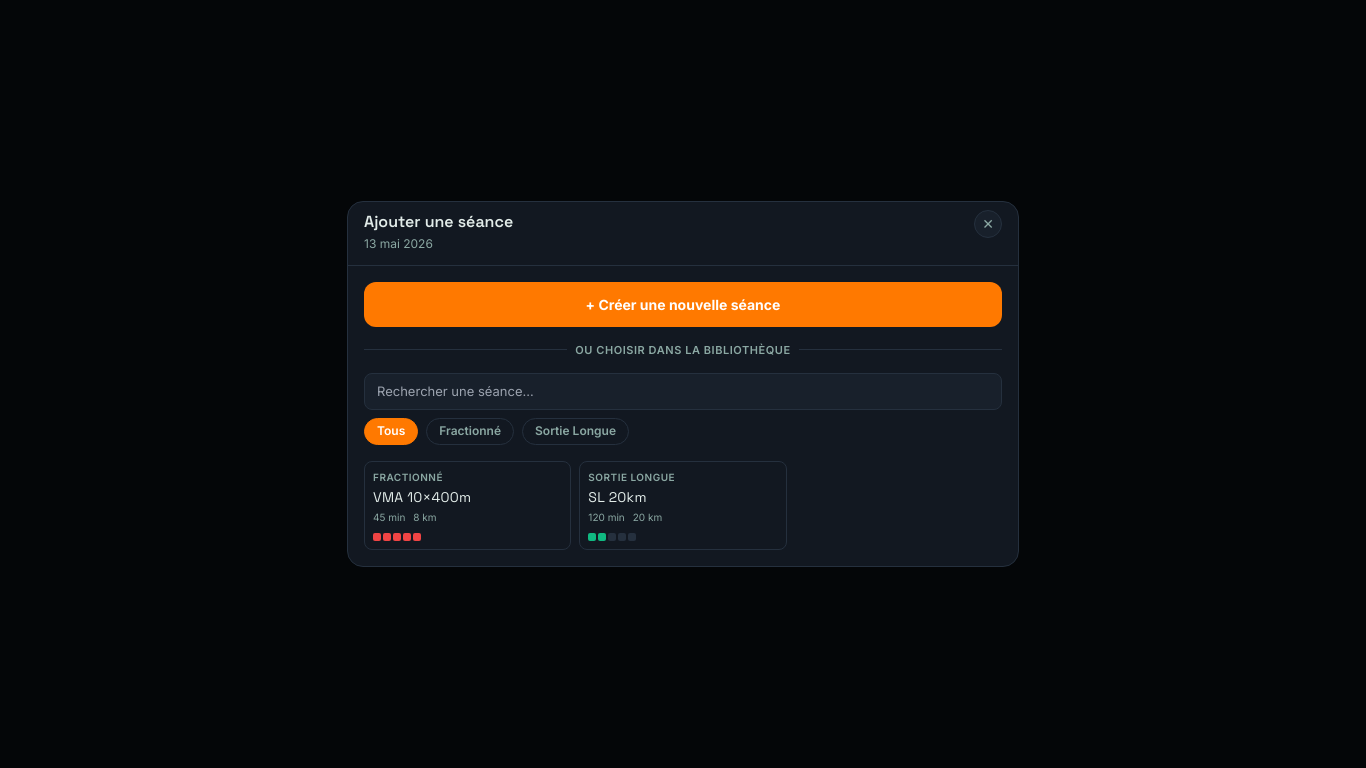
Test case: <SessionAddSheet> › aucun résultat → affiche un empty state avec bouton reset
The image size is (1366, 768).
Expected: the heading "VMA 10×400m" is shown, [373,488,471,506]
Type "xyz123" into the search field with placeholder "Rechercher une séance…" at {"x": 683, "y": 391}, box [364,373,1002,410]
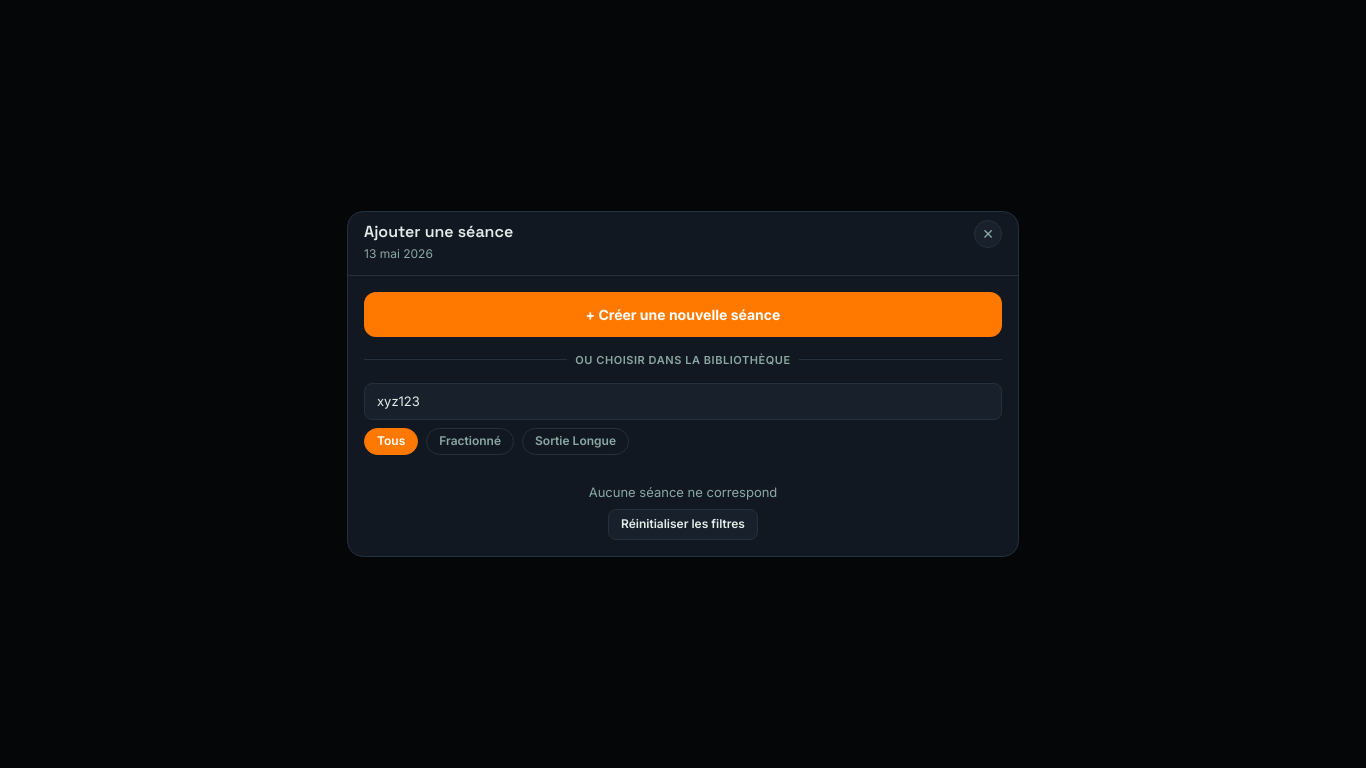
Expected: the text "Aucune séance ne correspond" is shown, [589,484,777,500]
Click the button "Réinitialiser les filtres" at {"x": 683, "y": 525}, box [608,509,758,540]
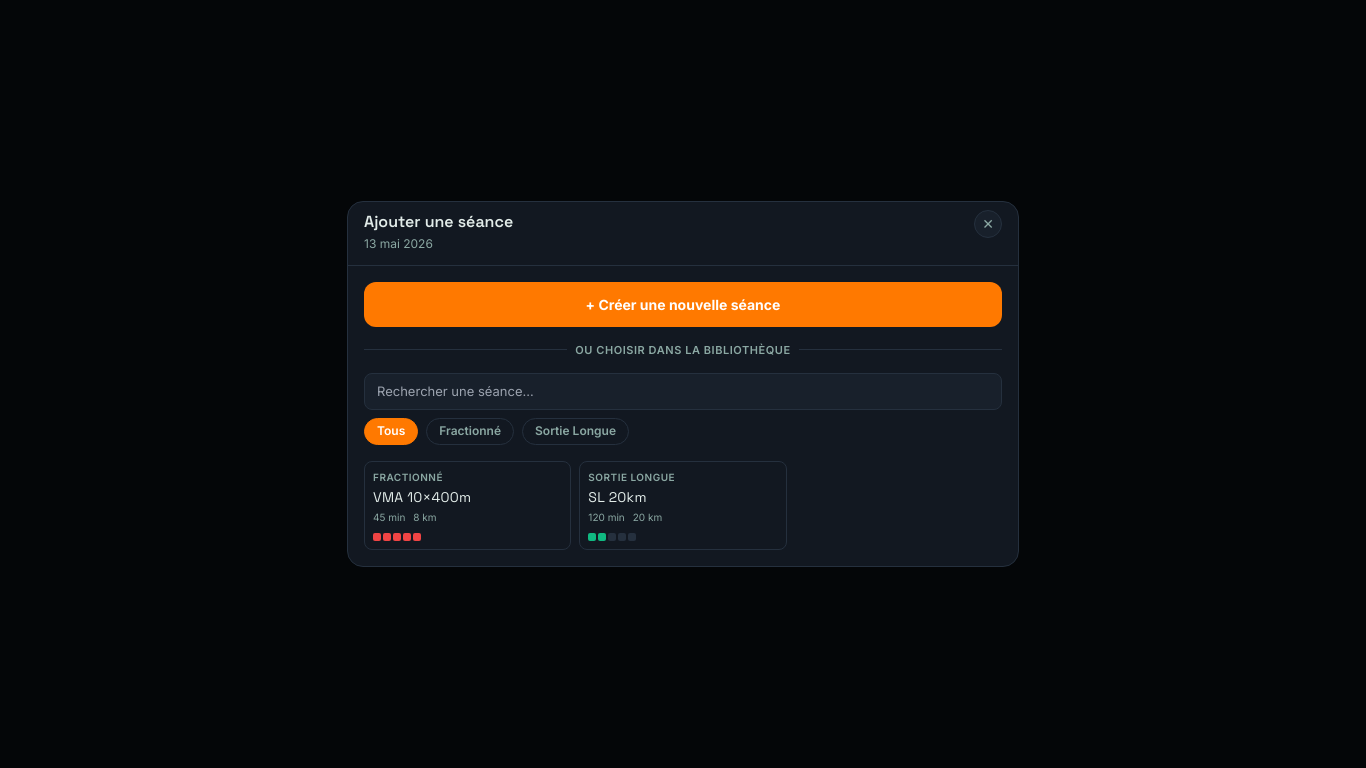
Expected: the heading "VMA 10×400m" is shown, [373,488,471,506]
